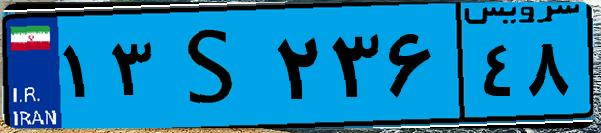1: (57, 26, 110, 100)
2: (270, 28, 330, 110)
3: (330, 28, 385, 110), (110, 28, 158, 98)
4: (475, 38, 525, 113)
6: (385, 28, 445, 110)
8: (525, 38, 570, 115)
S: (158, 12, 270, 120)
